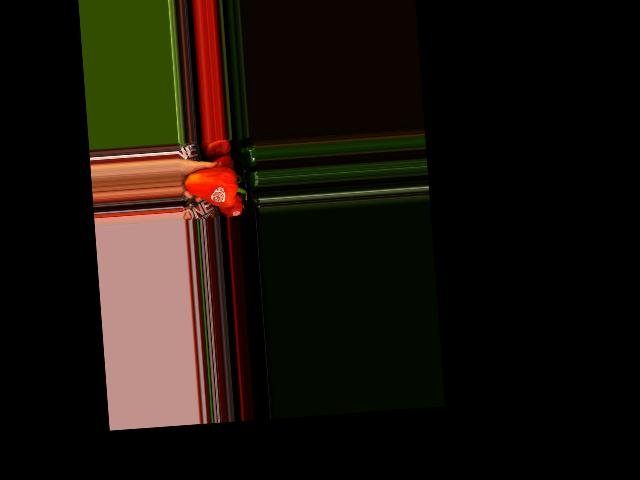bell_pepper: (184, 160, 248, 211)
